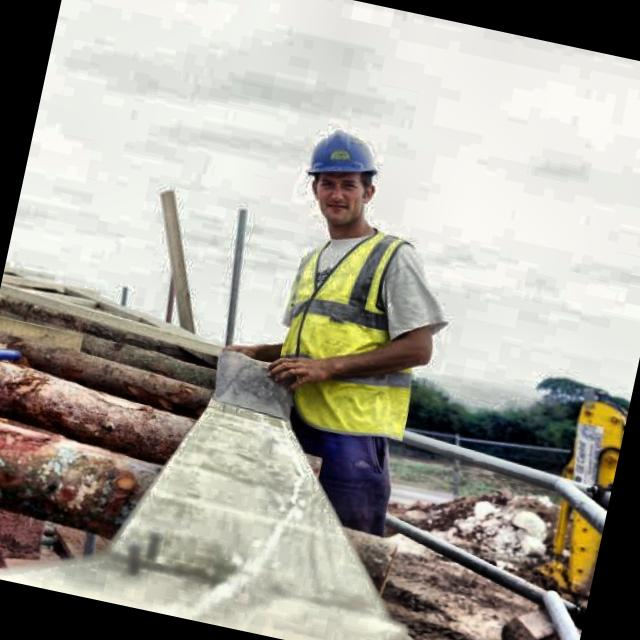helmet: (292, 122, 392, 242)
